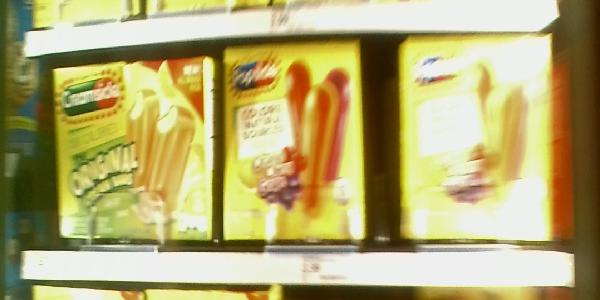icecream: (397, 24, 561, 254), (45, 58, 220, 240), (222, 36, 366, 242)
